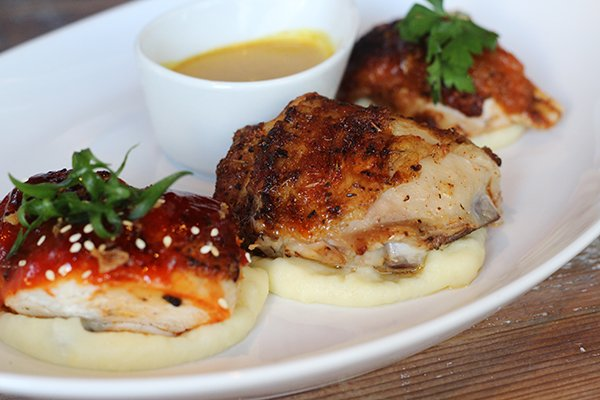soup: (214, 94, 505, 277), (0, 143, 255, 336)
sushi: (135, 1, 361, 176)
